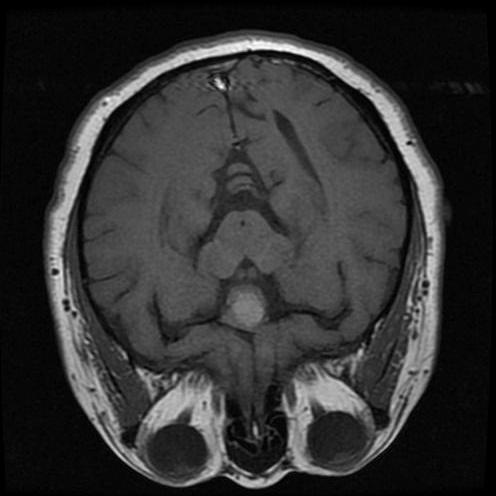Tumour-Pituitary: (219, 282, 279, 345)
